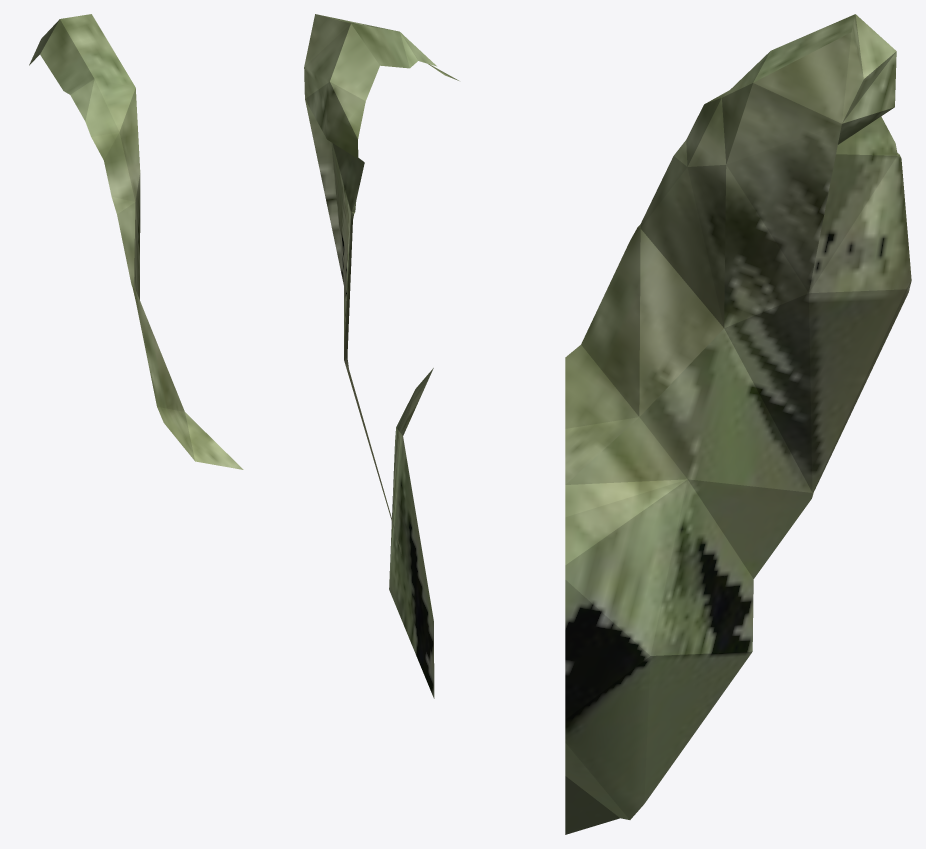
3 views of the same model, side by side, from view 1: azimuth 30°, elevation 25°; view 2: azimuth 150°, elevation 25°; view 3: azimuth 270°, elevation 25° (orthographic). The views are drawn at different scales.
Bounding box in the file's own units: 0.2793 × 1.71 × 0.6457.
1 material, 1 textured.
